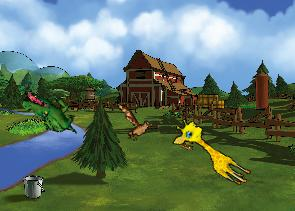crocodile: (17, 89, 82, 135)
eagle: (108, 100, 162, 146)
giraffe: (167, 114, 259, 189)
